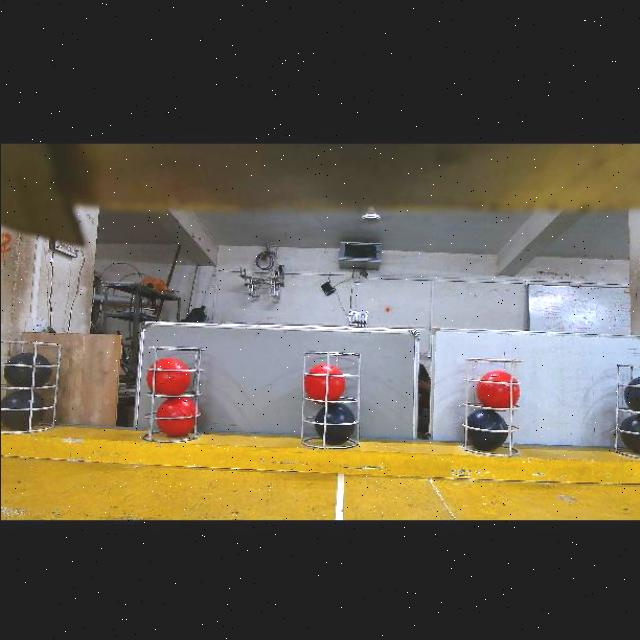P: (466, 407, 508, 449), (314, 401, 354, 443), (0, 388, 44, 426), (2, 351, 50, 385), (619, 412, 640, 453), (624, 374, 640, 409)
R: (475, 369, 519, 406), (156, 396, 196, 436), (145, 356, 188, 393), (304, 362, 344, 398)
S: (296, 353, 360, 453), (143, 342, 201, 452), (462, 352, 526, 451), (0, 342, 60, 428), (606, 358, 640, 456)
